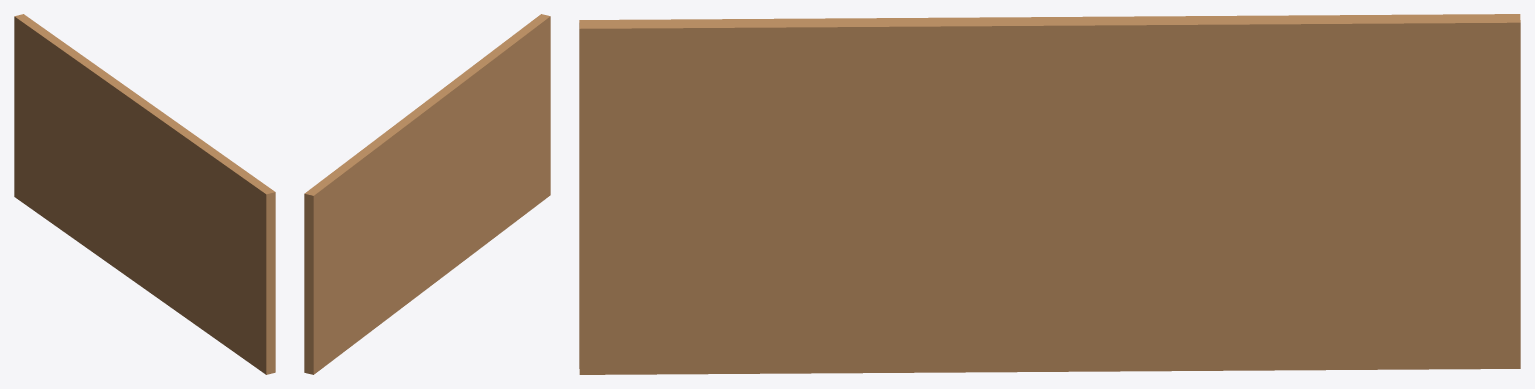
The model's file is cartel_ghost_tabla_lev3.glb.
3 views of the same model, side by side, from view 1: azimuth 30°, elevation 25°; view 2: azimuth 150°, elevation 25°; view 3: azimuth 270°, elevation 25° (orthographic). The views are drawn at different scales.
Parts seen in each view (by area): view 1: cartel_ghost_tabla_lev3; view 2: cartel_ghost_tabla_lev3; view 3: cartel_ghost_tabla_lev3.
Part boxes in pixels (x1,y1,x2,y2): cartel_ghost_tabla_lev3: (14,14,275,374); cartel_ghost_tabla_lev3: (304,14,550,374); cartel_ghost_tabla_lev3: (579,14,1520,374).
Bounding box in the file's own units: 0.3393 × 3.69 × 9.1.
